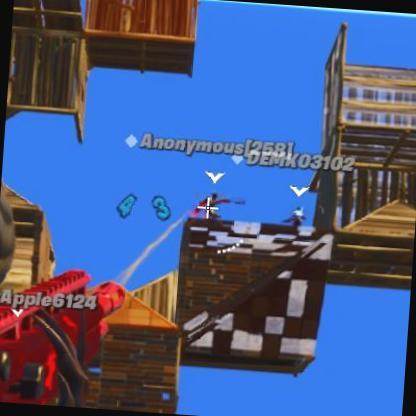person: (204, 192, 223, 222), (286, 206, 300, 226)
